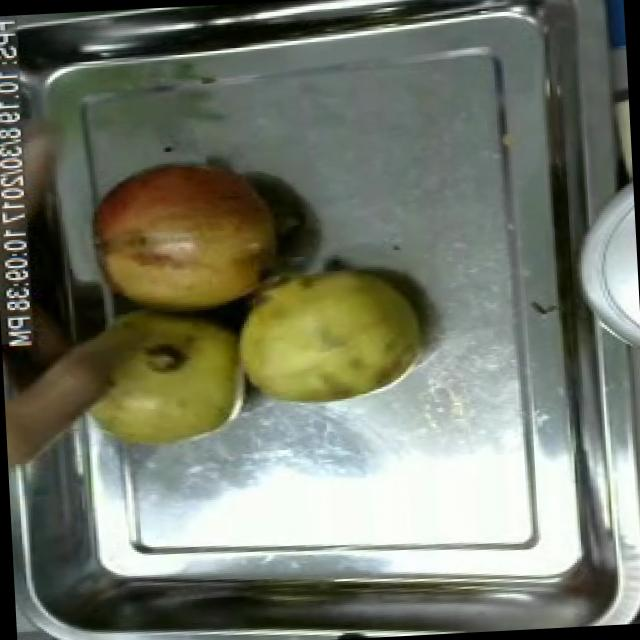fruit: (76, 150, 295, 320), (222, 252, 436, 415), (44, 298, 250, 460)
